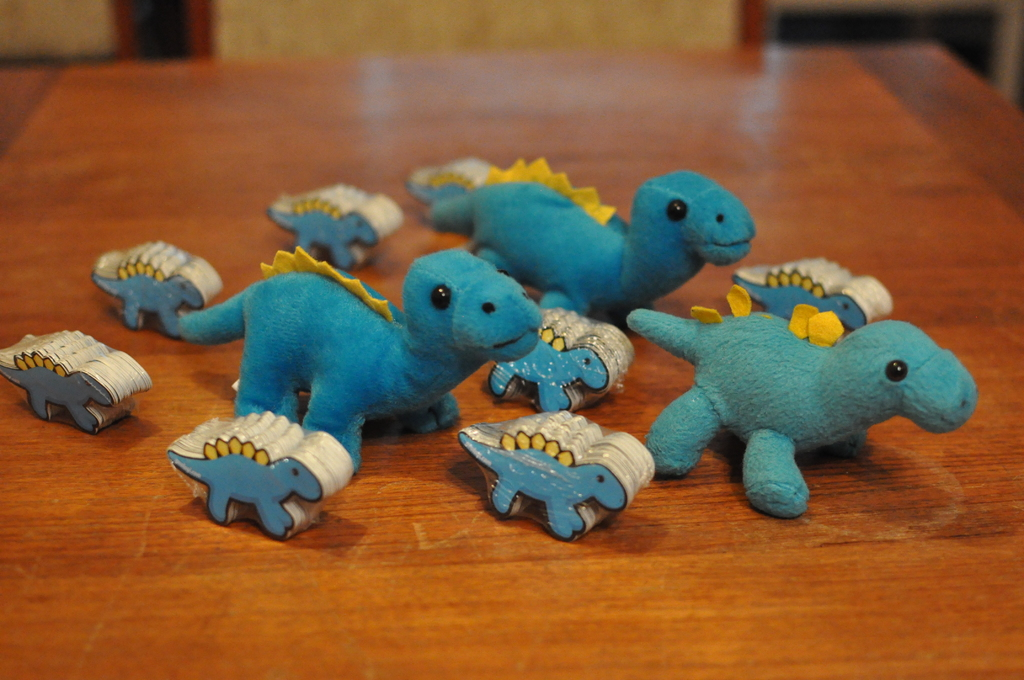Animal: (173, 243, 544, 474), (622, 282, 977, 519), (428, 149, 760, 333), (453, 411, 655, 538), (163, 411, 350, 540), (481, 302, 637, 411), (0, 324, 150, 435), (85, 237, 225, 340), (726, 255, 896, 335), (257, 180, 403, 264), (395, 155, 500, 207)
